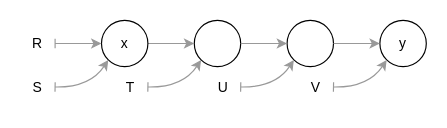
Image size: 447x128. Some labels were removed from this diagram. The centre of each missing label's shape, as x and y in pixels:
y, z: (x=217, y=43)
y,z: (x=310, y=43)
